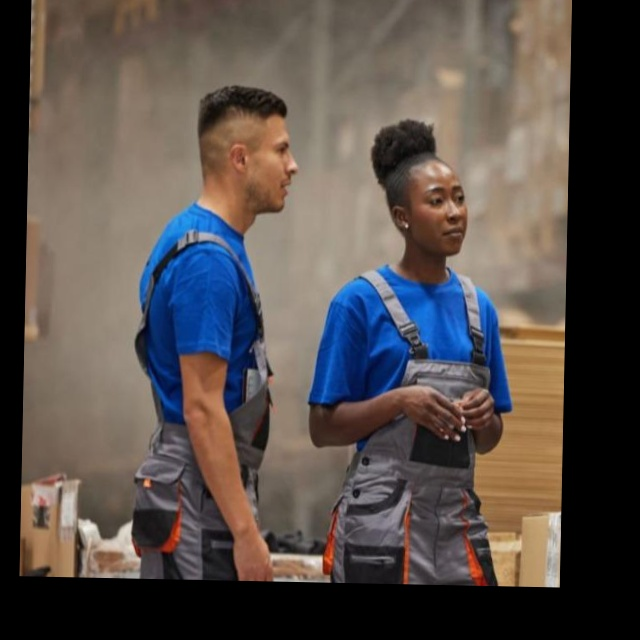Sin_Casco_Mascarrilla: (193, 85, 301, 222), (369, 119, 470, 258)
